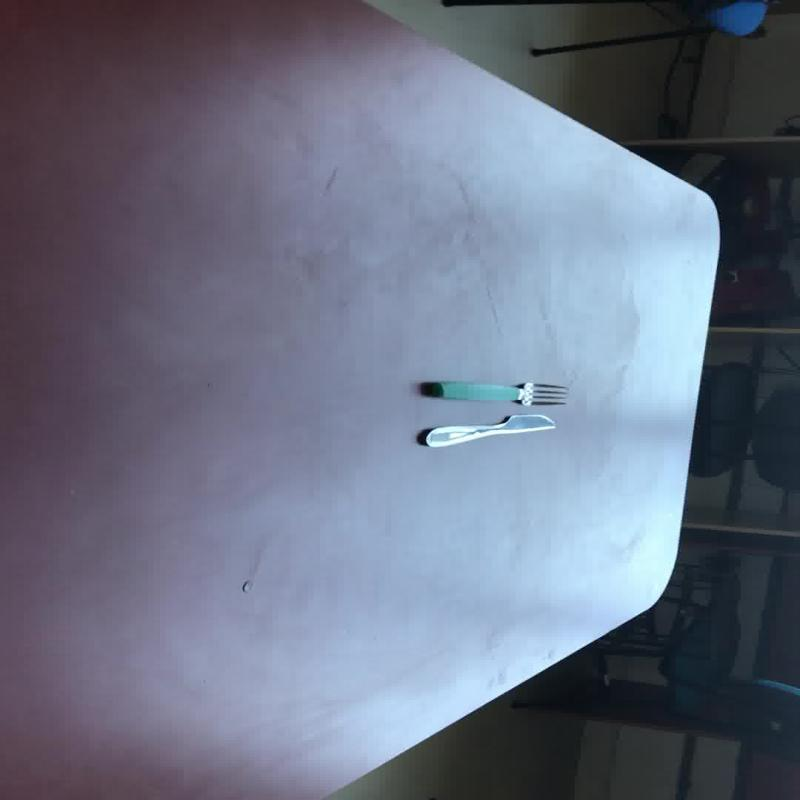fork: (414, 413, 555, 447), (417, 380, 567, 406)
knife: (414, 413, 556, 447)
